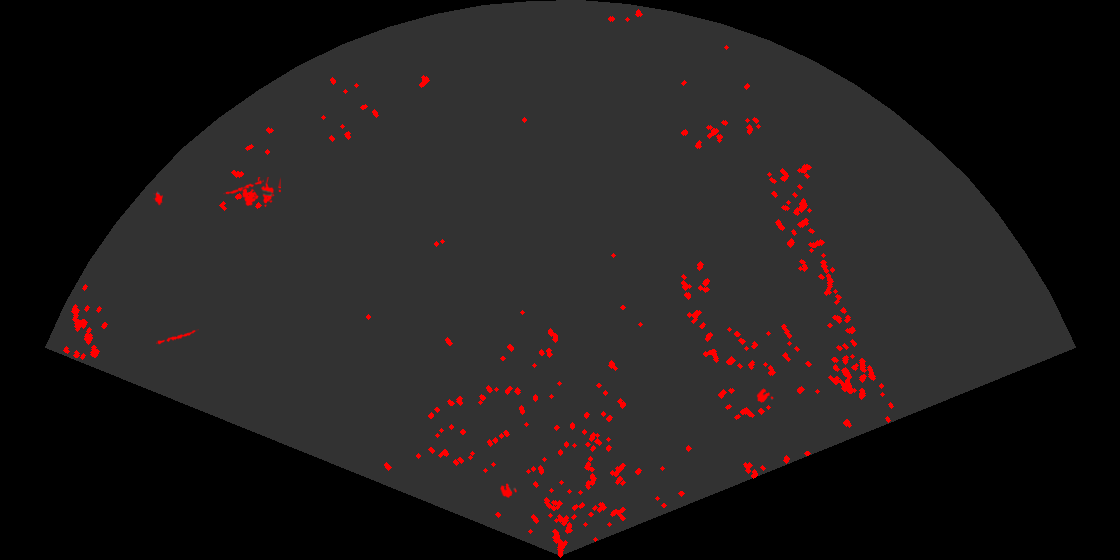AUV: (153, 190, 165, 207)
ball: (499, 482, 519, 499), (755, 387, 775, 404)
cage: (241, 177, 281, 209)
chain: (156, 328, 199, 346), (223, 178, 264, 196)
